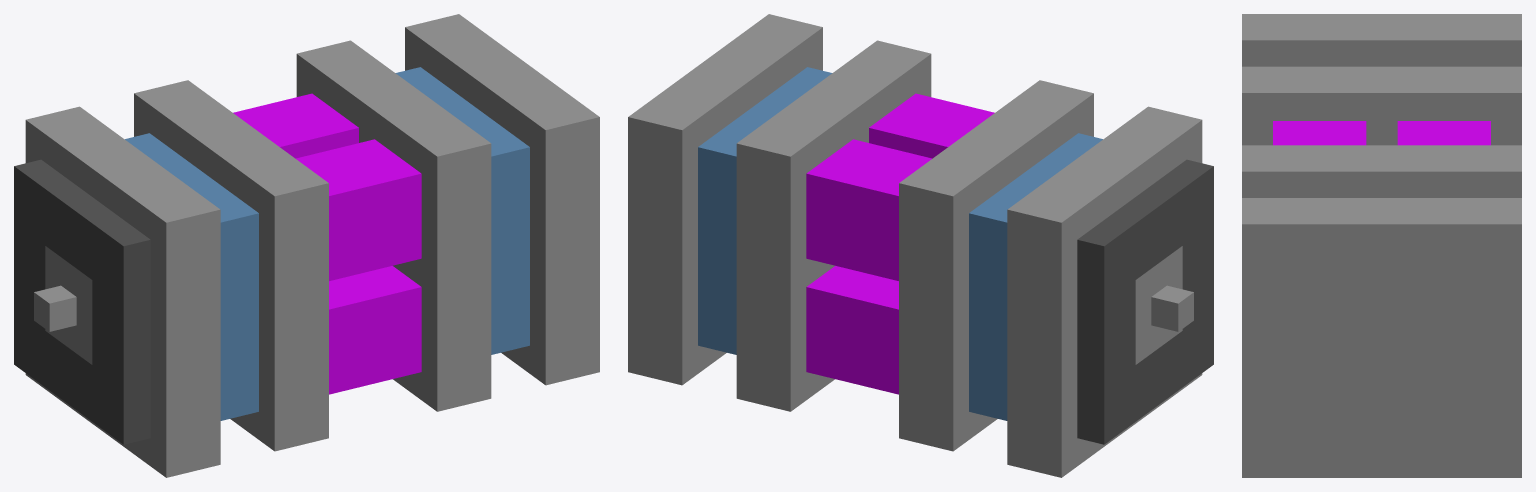
Rendered from WeaponMagazine#2.obj.
3 views of the same model, side by side, from view 1: azimuth 30°, elevation 25°; view 2: azimuth 150°, elevation 25°; view 3: azimuth 270°, elevation 25° (orthographic).
Size of the model in its own units: 1.8 by 0.9 by 0.9.
1 material, 1 textured.
